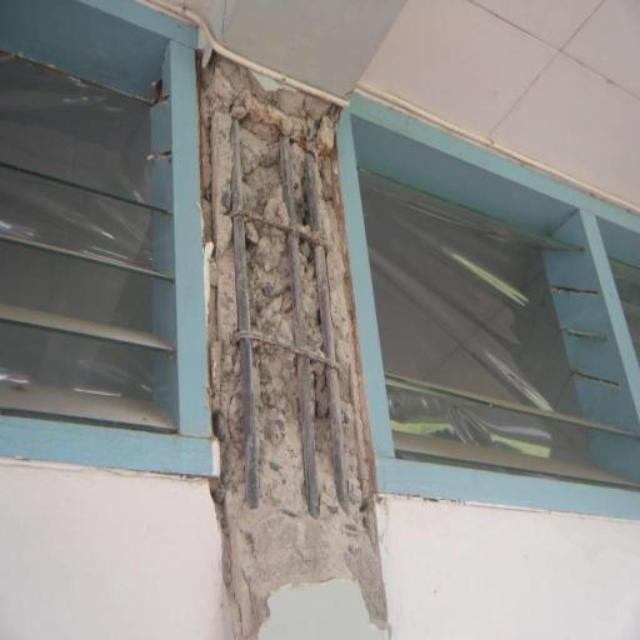D0w0: (198, 50, 385, 621)
